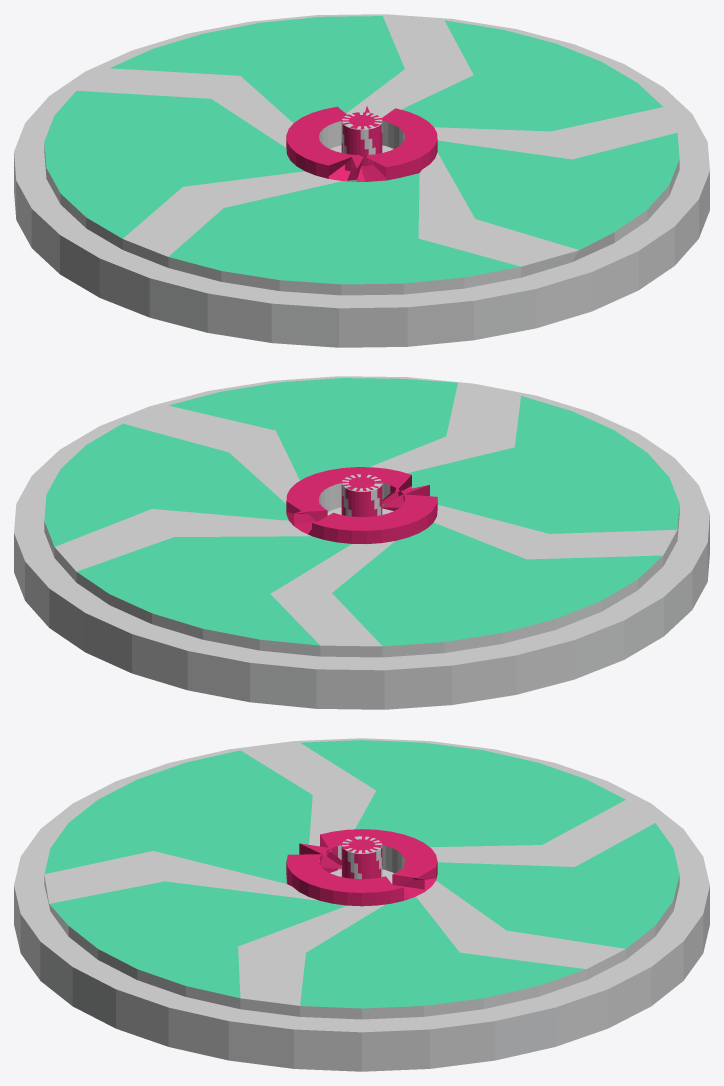
File: turntables.fbx
3 views of the same model, one above another, from view 1: azimuth 30°, elevation 25°; view 2: azimuth 150°, elevation 25°; view 3: azimuth 270°, elevation 25° (orthographic).
Parts seen in each view (by area): view 1: 柱体.001; view 2: 柱体.001; view 3: 柱体.001.
Part boxes in pixels (left/top/right/bottom): 柱体.001: left=14, top=14, right=709, bottom=347; 柱体.001: left=14, top=376, right=709, bottom=709; 柱体.001: left=14, top=738, right=709, bottom=1071.
Bounding box in the file's own units: 800 × 101 × 800.
